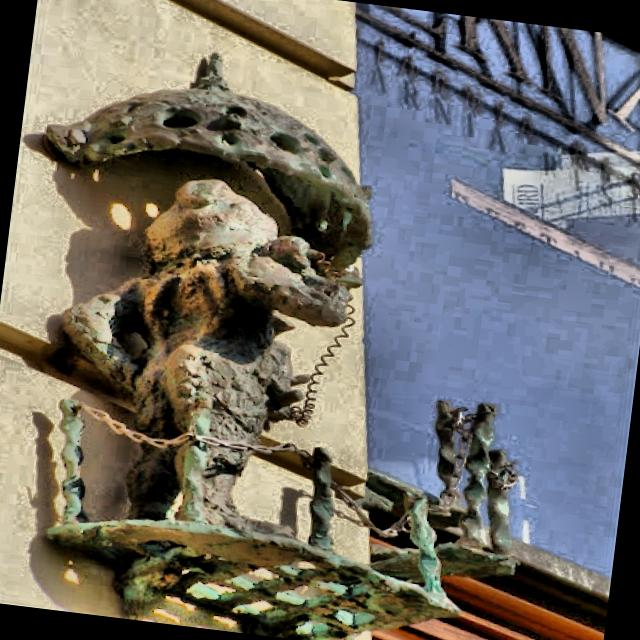Dryndek: (46, 55, 457, 640)
